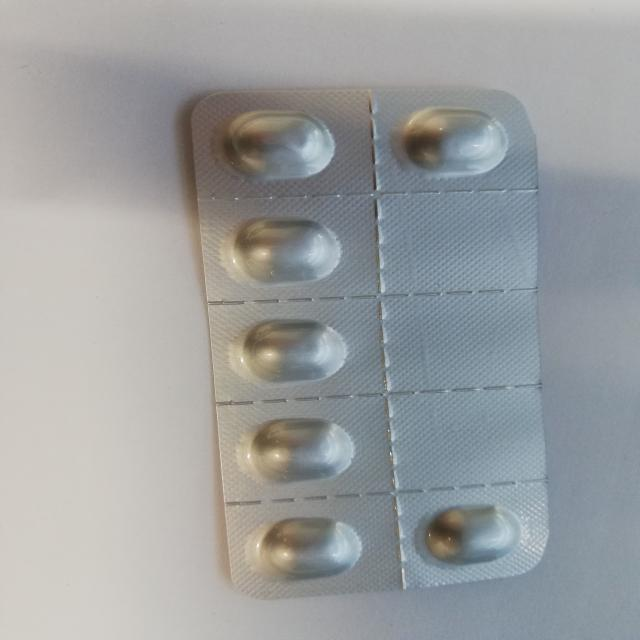Pill: (385, 89, 515, 180), (215, 104, 341, 188), (222, 216, 354, 288), (233, 311, 354, 389), (239, 411, 365, 485), (409, 496, 526, 572), (258, 516, 370, 584)
